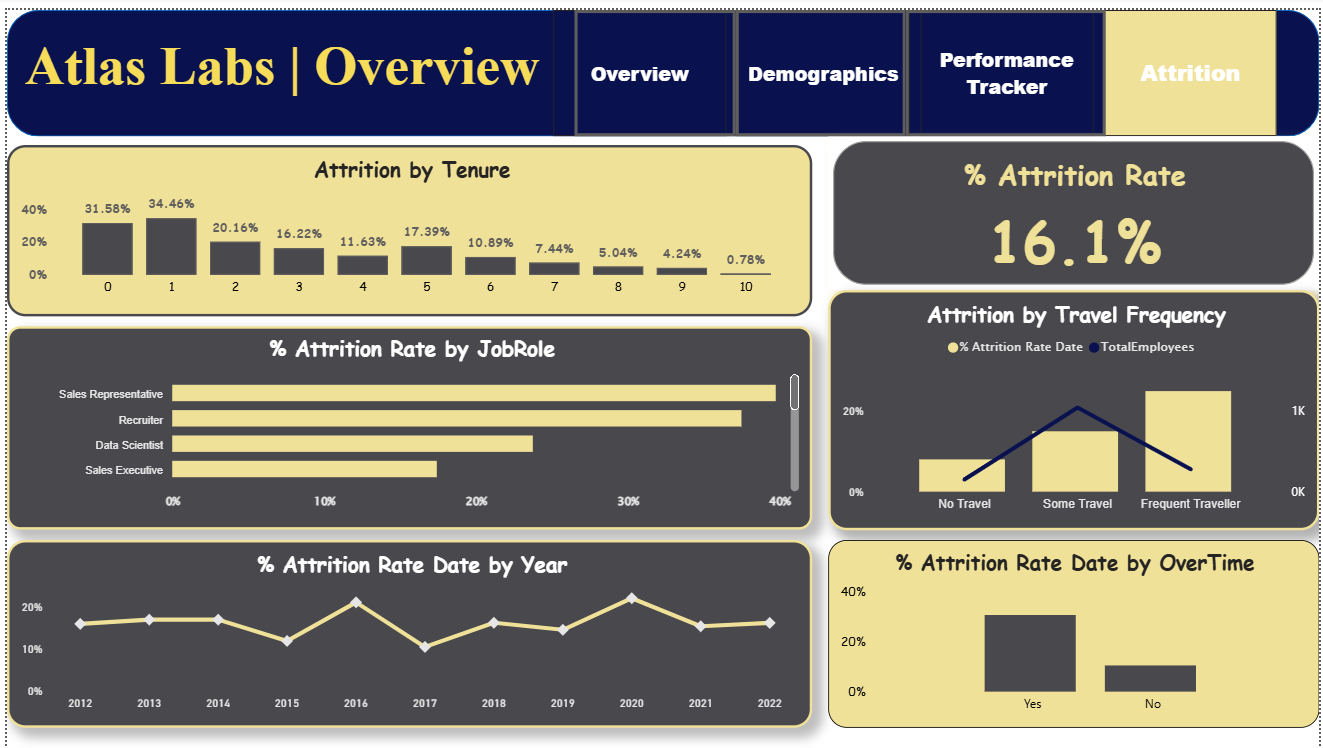

What the dashboard file says about the page in this screenshot:
{"tool":"powerbi","page":{"name":"Attrition","canvas":[1280,720],"ordinal":3},"visuals":[{"type":"shape","box":[0,0,1280.3,123.5],"z":0},{"type":"textbox","box":[12.3,19.2,520.1,85.1],"z":1000},{"type":"pageNavigator","box":[532.4,0,706.7,123.5],"z":2000},{"type":"cardVisual","fields":{"Data":["_Measures.% Attrition Rate"]},"box":[801.2,123.2,479.3,150],"z":3000},{"type":"clusteredBarChart","fields":{"Category":["DimEmployee.JobRole","DimEmployee.Department"],"Y":["_Measures.% Attrition Rate"]},"box":[0,308.5,785.4,198.8],"z":4000},{"type":"lineChart","fields":{"Y":["_Measures.% Attrition Rate Date"],"Category":["DimDate.Year"]},"box":[0,517.1,785.4,182.9],"z":5000},{"type":"lineClusteredColumnComboChart","title":"Attrition by Travel Frequency","fields":{"Y2":["_Measures.TotalEmployees"],"Category":["DimEmployee.BusinessTravel"],"Y":["_Measures.% Attrition Rate Date"]},"box":[801.2,273.2,479.3,234.1],"z":6000},{"type":"columnChart","fields":{"Y":["_Measures.% Attrition Rate Date"],"Category":["DimEmployee.OverTime"]},"box":[801.2,517.1,479.3,182.9],"z":7000},{"type":"clusteredColumnChart","title":"Attrition by Tenure","fields":{"Y":["_Measures.% Attrition Rate Date"],"Category":["DimEmployee.YearsAtCompany"]},"box":[0,131.7,785.4,167.1],"z":7001},{"type":"actionButton","box":[711,0,165.9,123.2],"z":7002},{"type":"actionButton","box":[553.7,0,157.3,123.2],"z":7003},{"type":"actionButton","box":[876.8,0,195.1,123.2],"z":7004}]}

Visuals, with their boxes in screenshot pixels (x1, y1, x2, y2), scaled from the page's 1280x720 canvas onto the 1323x748 screenshot:
shape: crop(0, 0, 1322, 128)
textbox: crop(13, 20, 550, 108)
pageNavigator: crop(550, 0, 1281, 128)
cardVisual - _Measures.% Attrition Rate: crop(828, 128, 1322, 284)
clusteredBarChart - DimEmployee.JobRole x DimEmployee.Department: crop(0, 320, 812, 527)
lineChart - _Measures.% Attrition Rate Date x DimDate.Year: crop(0, 537, 812, 727)
"Attrition by Travel Frequency" lineClusteredColumnComboChart: crop(828, 284, 1322, 527)
columnChart - _Measures.% Attrition Rate Date x DimEmployee.OverTime: crop(828, 537, 1322, 727)
"Attrition by Tenure" clusteredColumnChart: crop(0, 137, 812, 310)
actionButton: crop(735, 0, 906, 128)
actionButton: crop(572, 0, 735, 128)
actionButton: crop(906, 0, 1108, 128)
